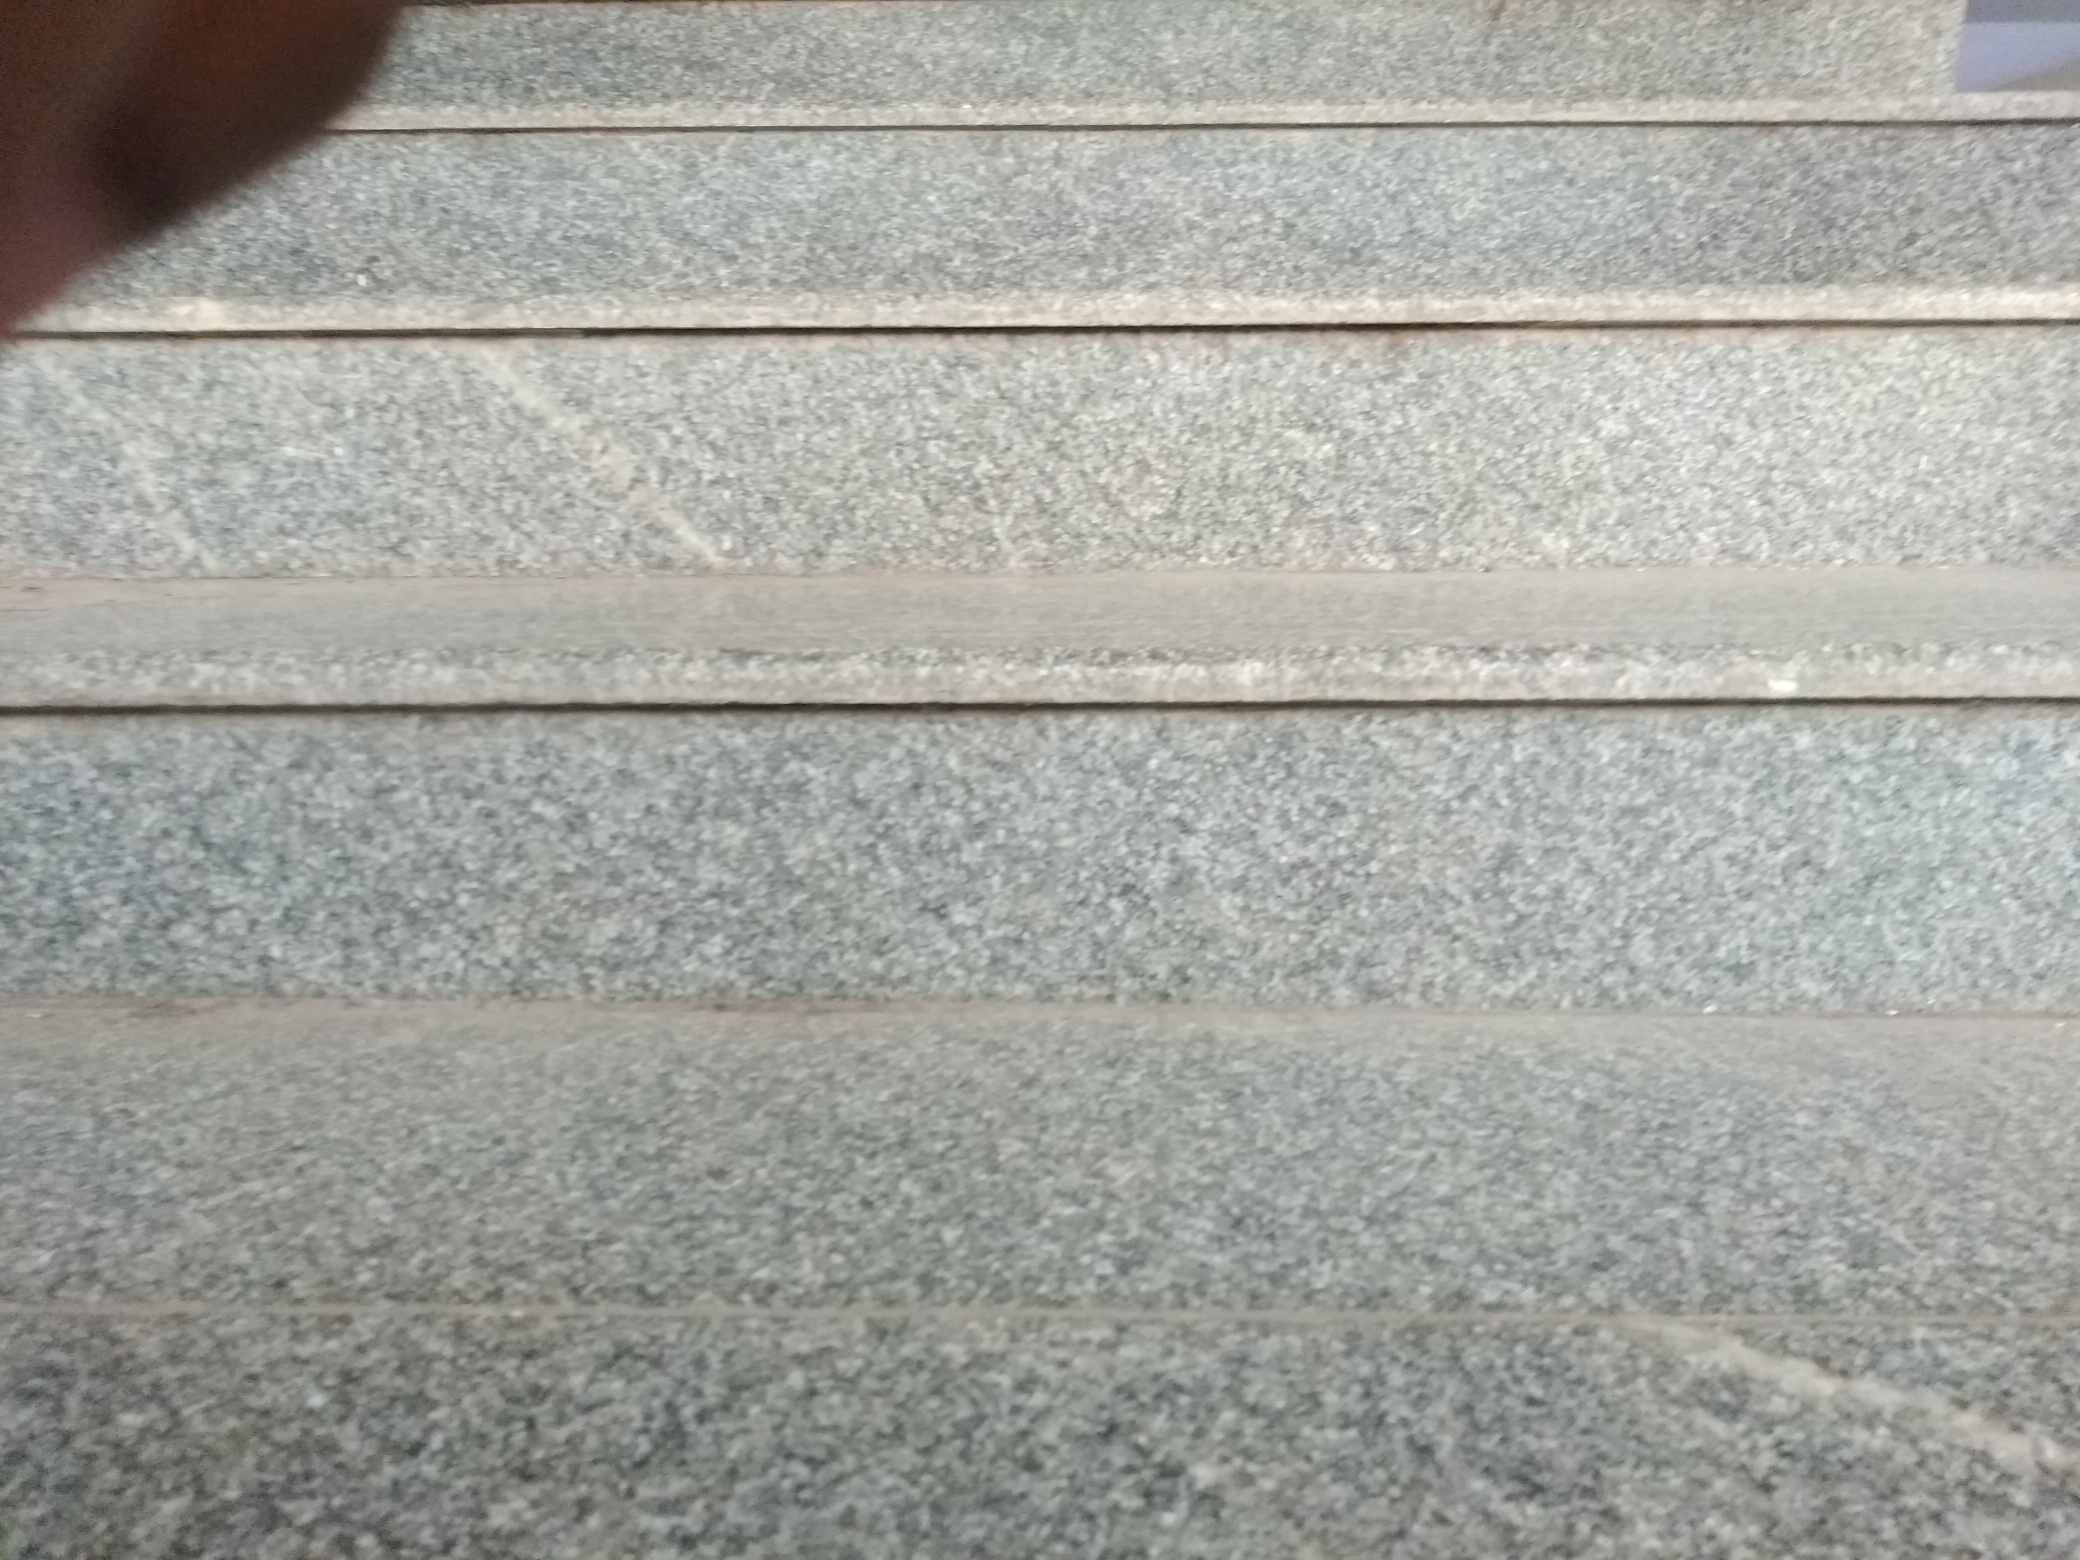stairs_up: (8, 90, 2080, 1054)
